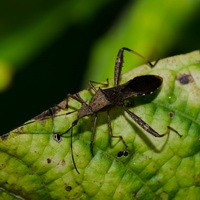insect: (0, 47, 199, 199)
